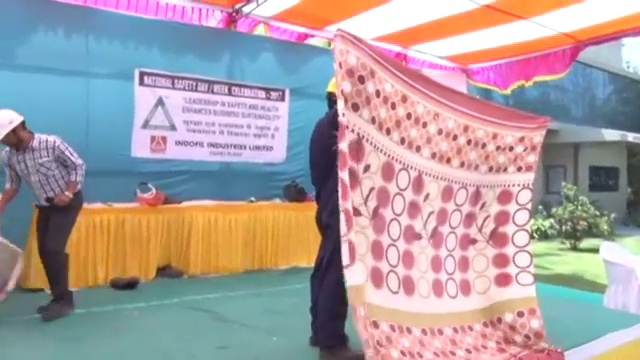helmet: (1, 107, 26, 142), (323, 75, 339, 97)
helmet_on: (1, 106, 34, 149), (322, 74, 342, 117)
person: (1, 105, 86, 324), (307, 74, 365, 358)
